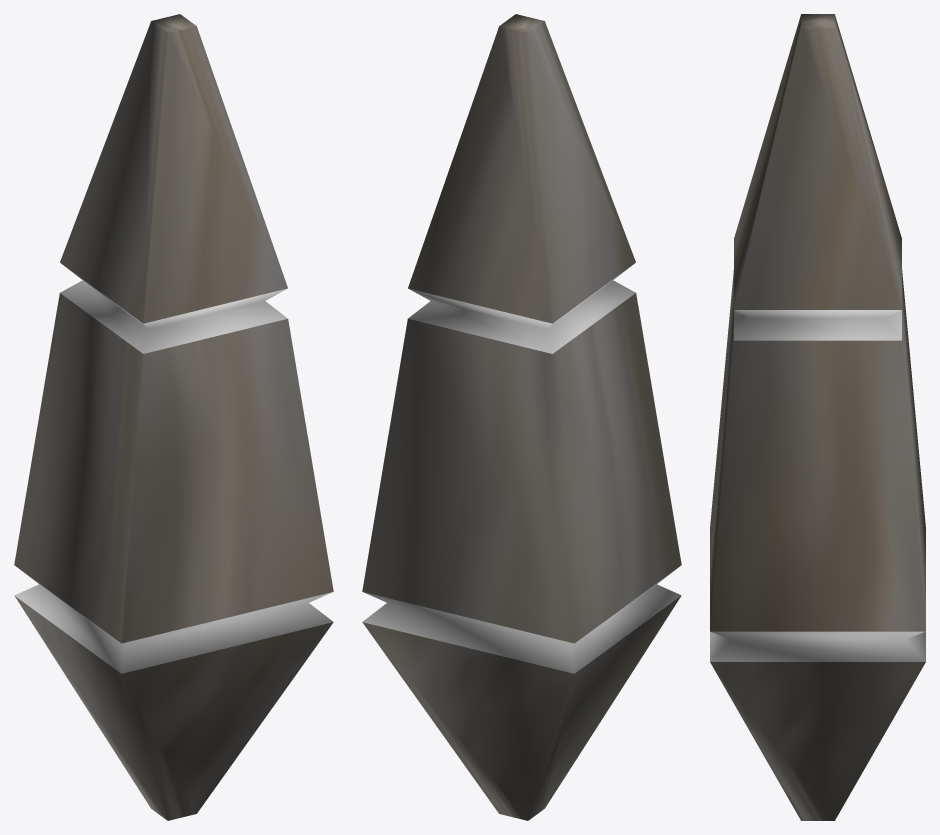
File: ruin_magic1_active-s.glb
3 renders of one model, left to right at view 1: azimuth 30°, elevation 25°; view 2: azimuth 150°, elevation 25°; view 3: azimuth 270°, elevation 25°, orthographic.
Parts seen in each view (by area): view 1: ruin_magic1_active; view 2: ruin_magic1_active; view 3: ruin_magic1_active.
Part boxes in pixels (x1=…): ruin_magic1_active: x1=14, y1=14, x2=333, y2=820; ruin_magic1_active: x1=362, y1=14, x2=681, y2=820; ruin_magic1_active: x1=710, y1=14, x2=925, y2=820.
Bounding box in the file's own units: 1.47 × 5.2 × 1.28.
2 materials, 1 textured.
